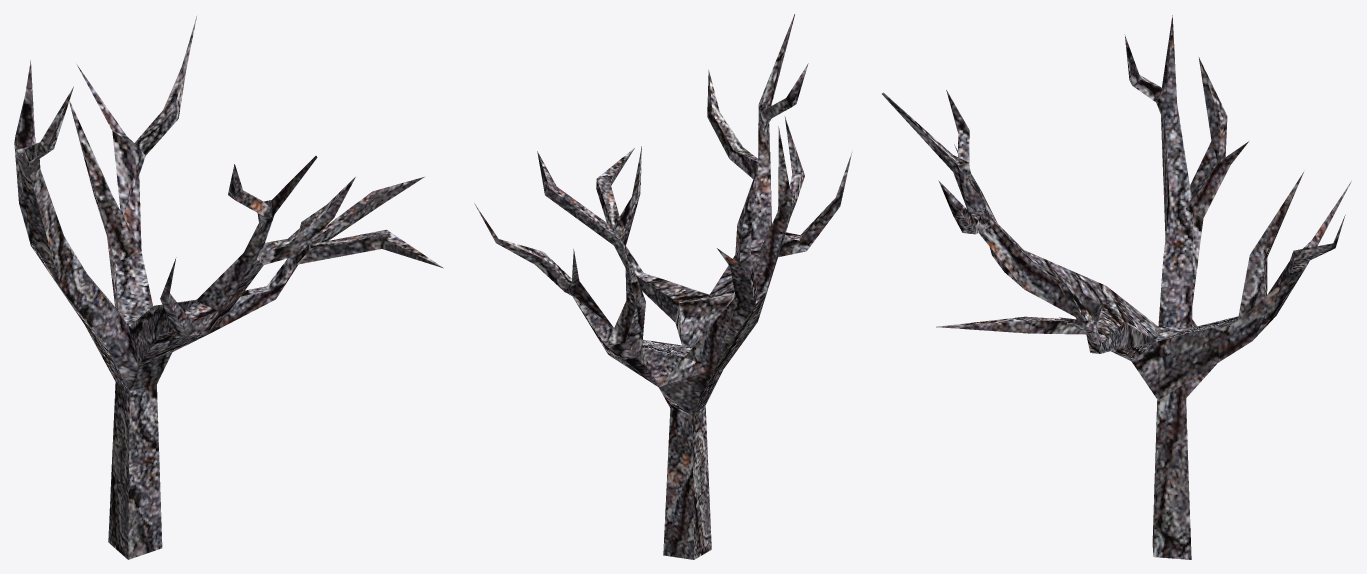
The model's file is tree.fbx.
3 views of the same model, side by side, from view 1: azimuth 30°, elevation 25°; view 2: azimuth 150°, elevation 25°; view 3: azimuth 270°, elevation 25° (orthographic). The views are drawn at different scales.
Parts seen in each view (by area): view 1: Plane; view 2: Plane; view 3: Plane.
Boxes of the visible parts, x1=… form: Plane: x1=14, y1=16, x2=443, y2=559; Plane: x1=474, y1=14, x2=852, y2=559; Plane: x1=882, y1=15, x2=1351, y2=559.
Size of the model in its own units: 368 by 515 by 449.
